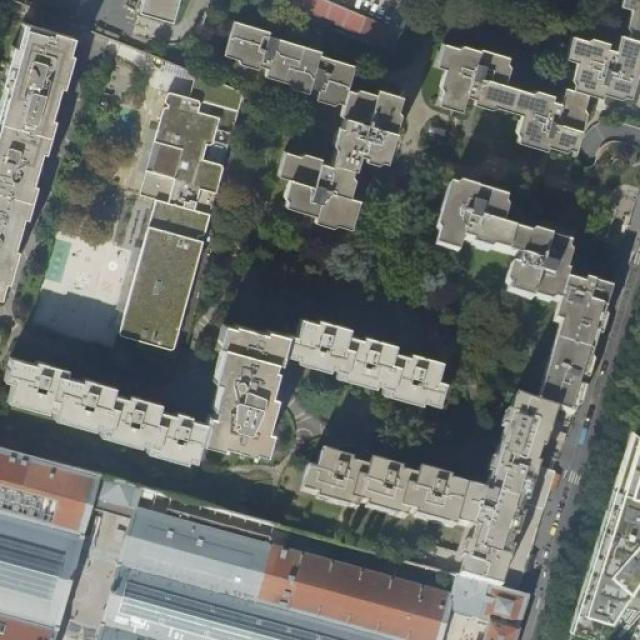immeuble: (0, 497, 511, 640), (0, 295, 445, 444), (435, 166, 625, 396), (196, 1, 400, 208), (127, 81, 240, 348), (433, 29, 640, 173), (0, 3, 69, 278), (316, 440, 492, 542), (467, 391, 566, 563), (582, 426, 640, 640), (1, 1, 2, 1)
